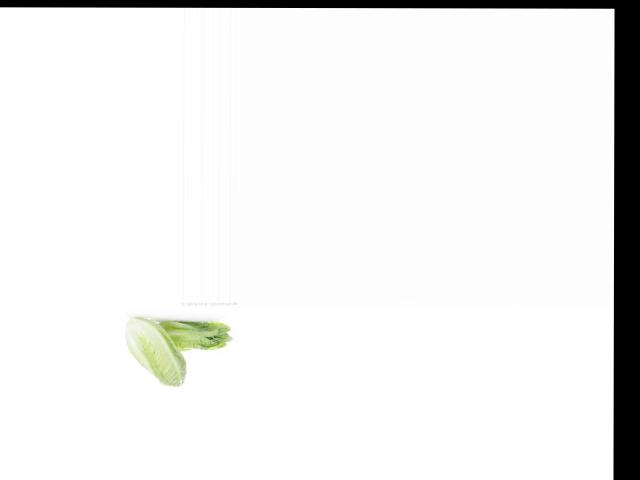lettuce: (158, 310, 231, 358)
